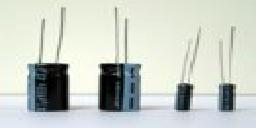Electrolytic-Capacitor: (23, 3, 74, 115), (97, 4, 147, 115), (171, 23, 200, 114), (213, 25, 241, 115)
